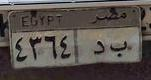3: (28, 36, 43, 64)
4: (12, 35, 27, 62), (58, 34, 72, 61)
6: (44, 34, 58, 61)
baa: (108, 39, 129, 58)
daal: (91, 38, 106, 59)
